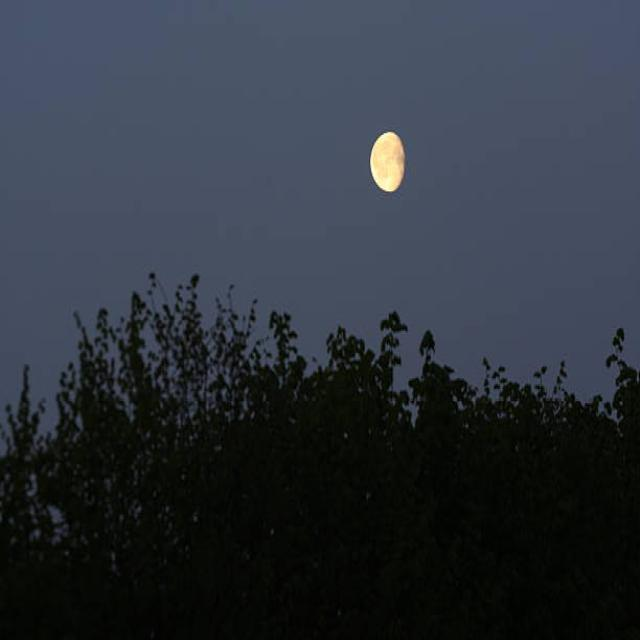moon: (370, 128, 408, 194)
